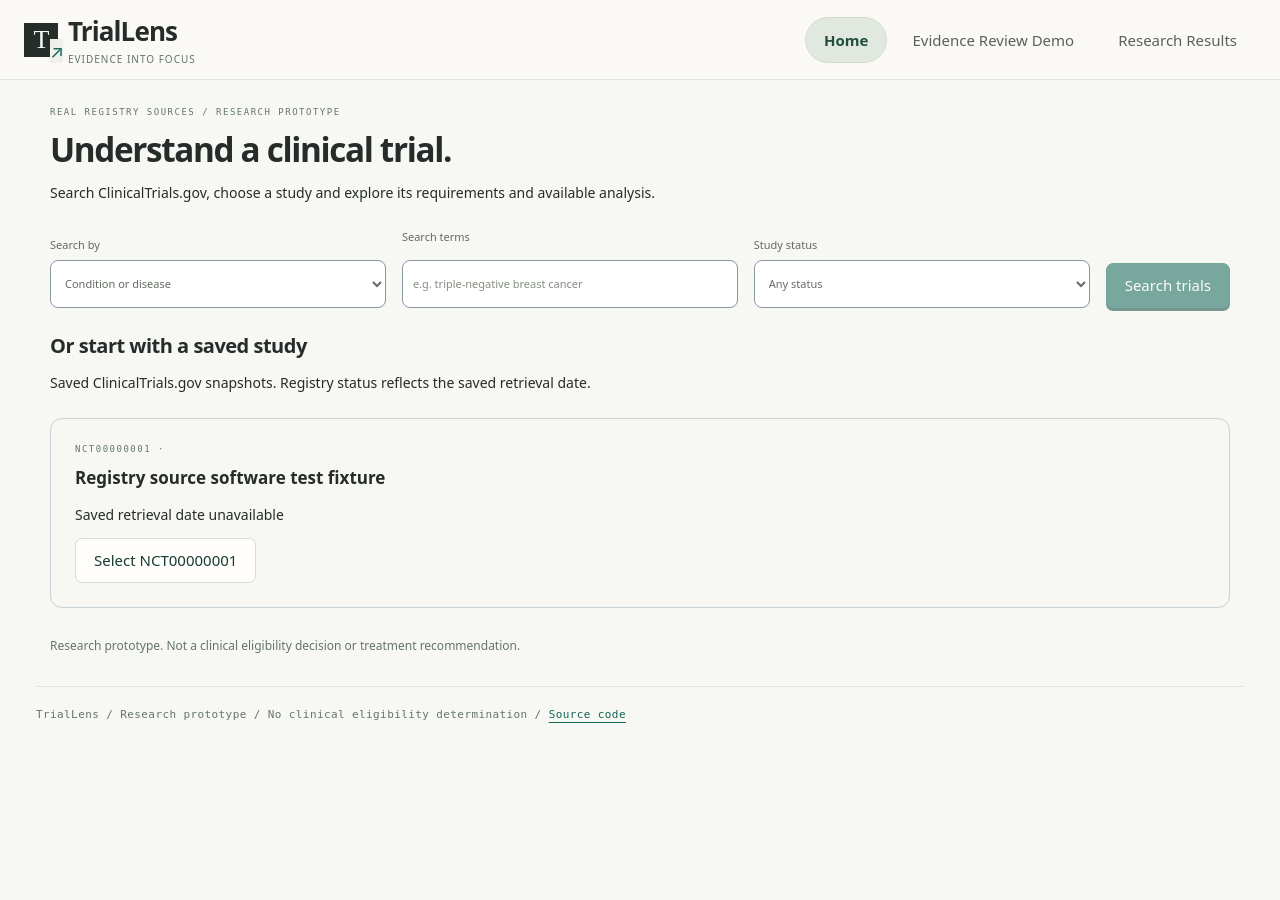
Test: the primary workflow selects and analyzes a real source without a fictional assessment
Click the button "Select NCT00000001" at (166, 560), box top-left (75, 538), bottom-right (256, 583)
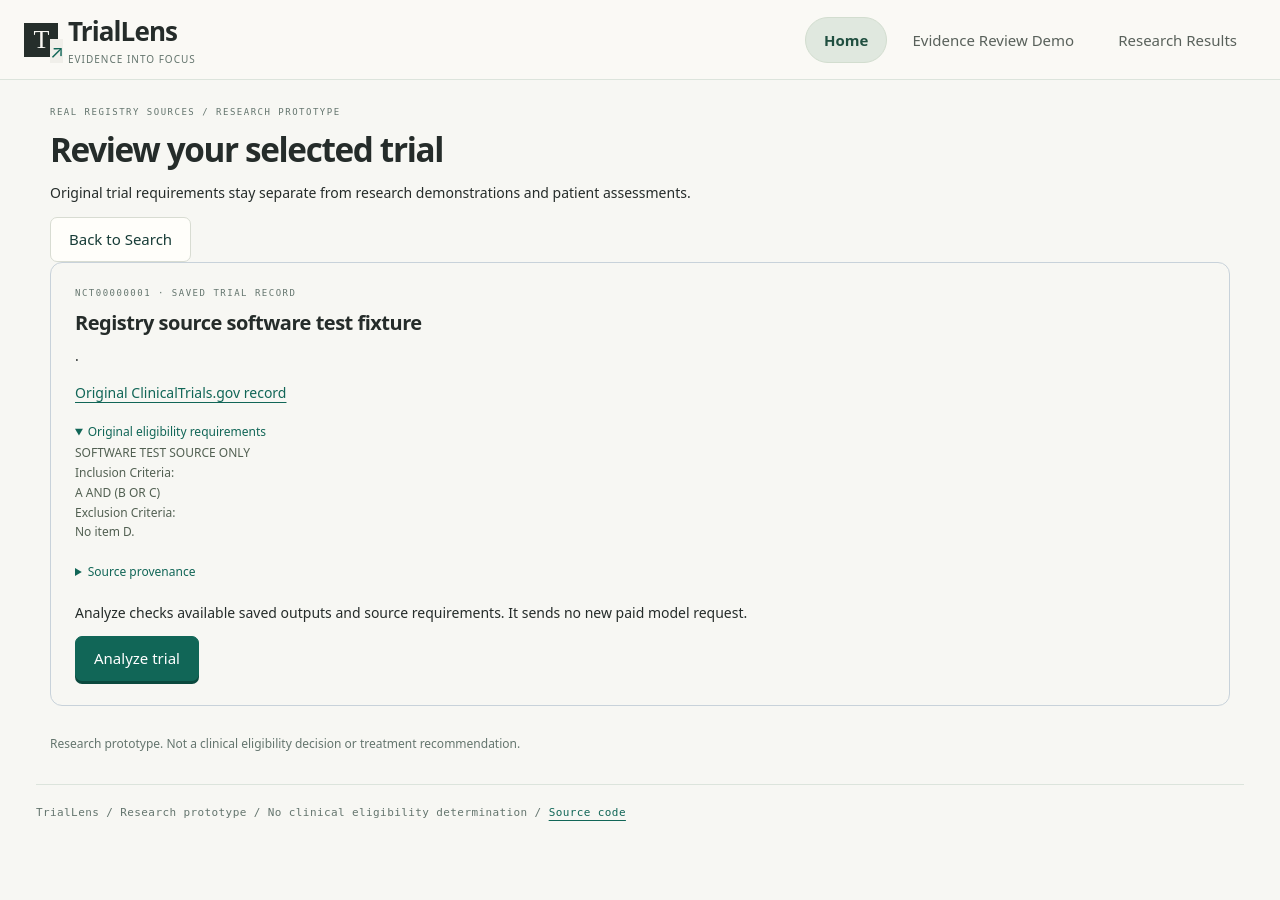
Click the button "Analyze trial" at (137, 659), box top-left (75, 636), bottom-right (199, 681)
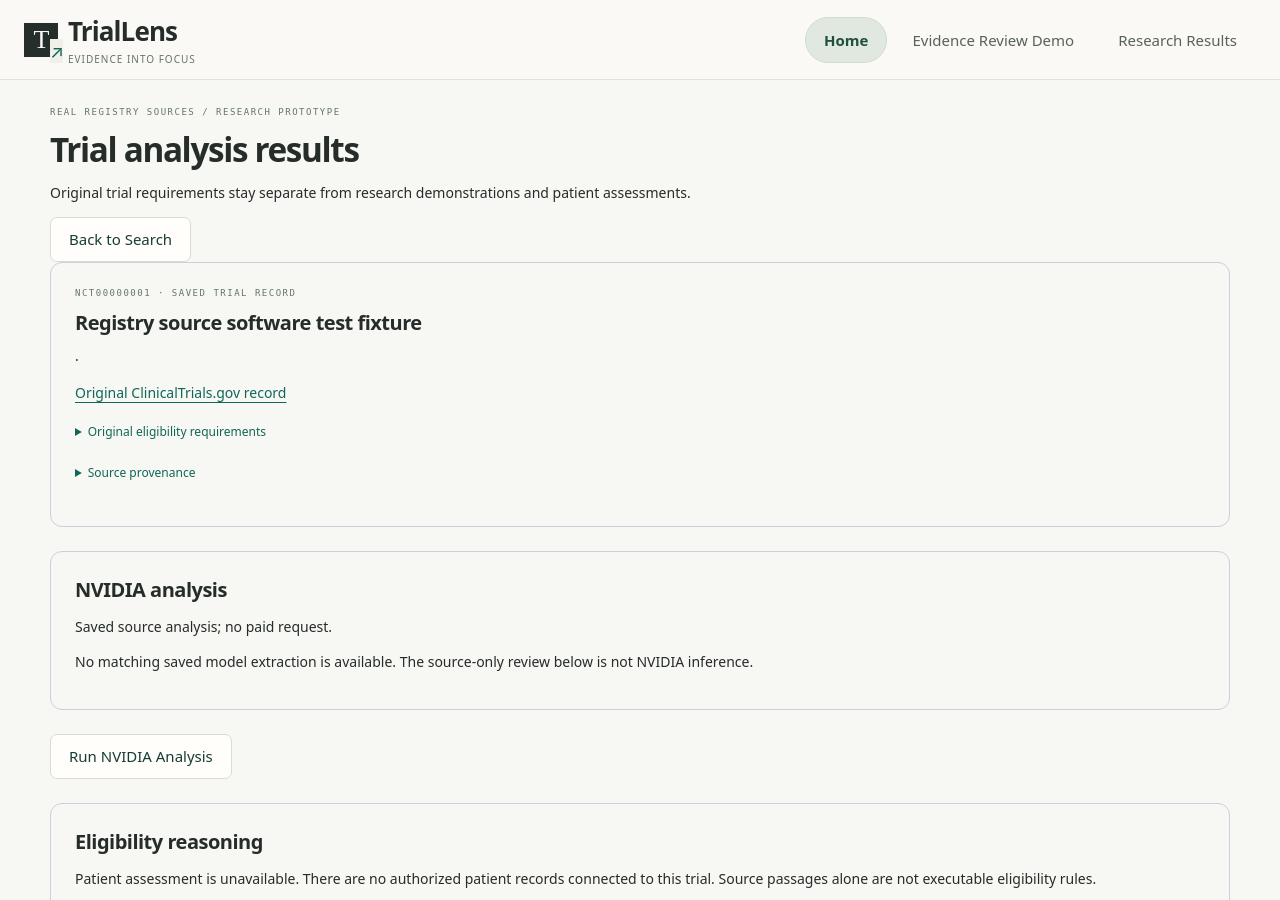
Expected: the heading "Trial analysis results" is shown, top-left (50, 126), bottom-right (359, 172)
Expected: the text "Patient assessment is unavailable" is shown, top-left (75, 869), bottom-right (1096, 888)
